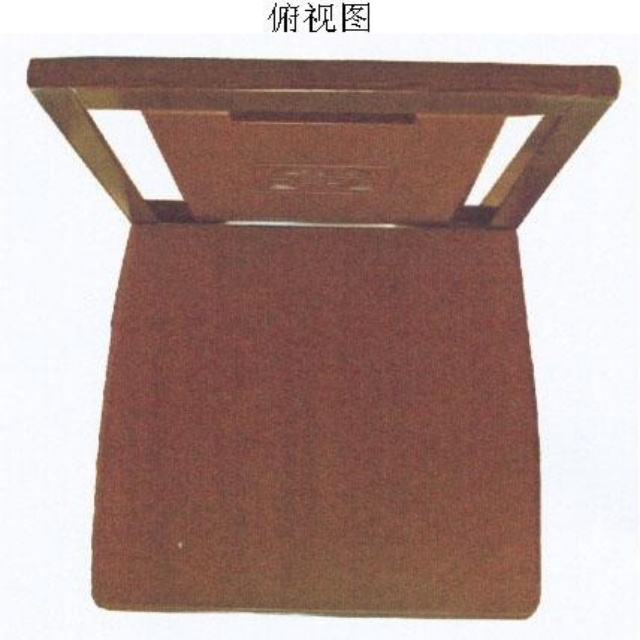obstacle: (28, 57, 618, 616)
